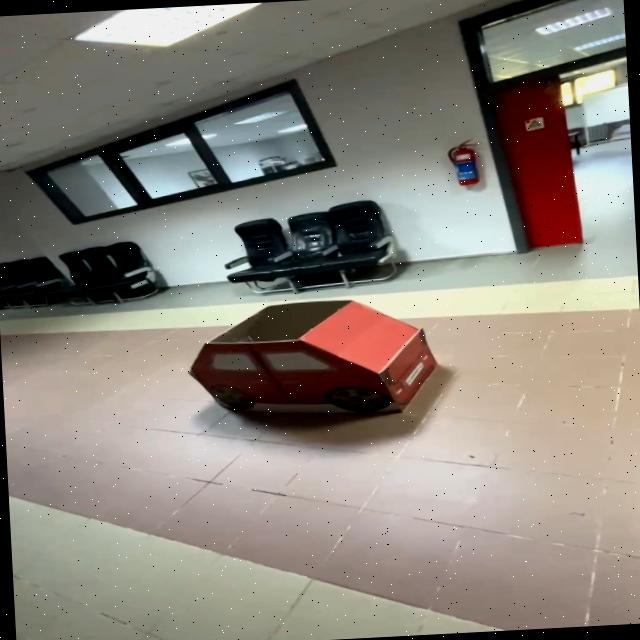red_car: (162, 279, 468, 444)
